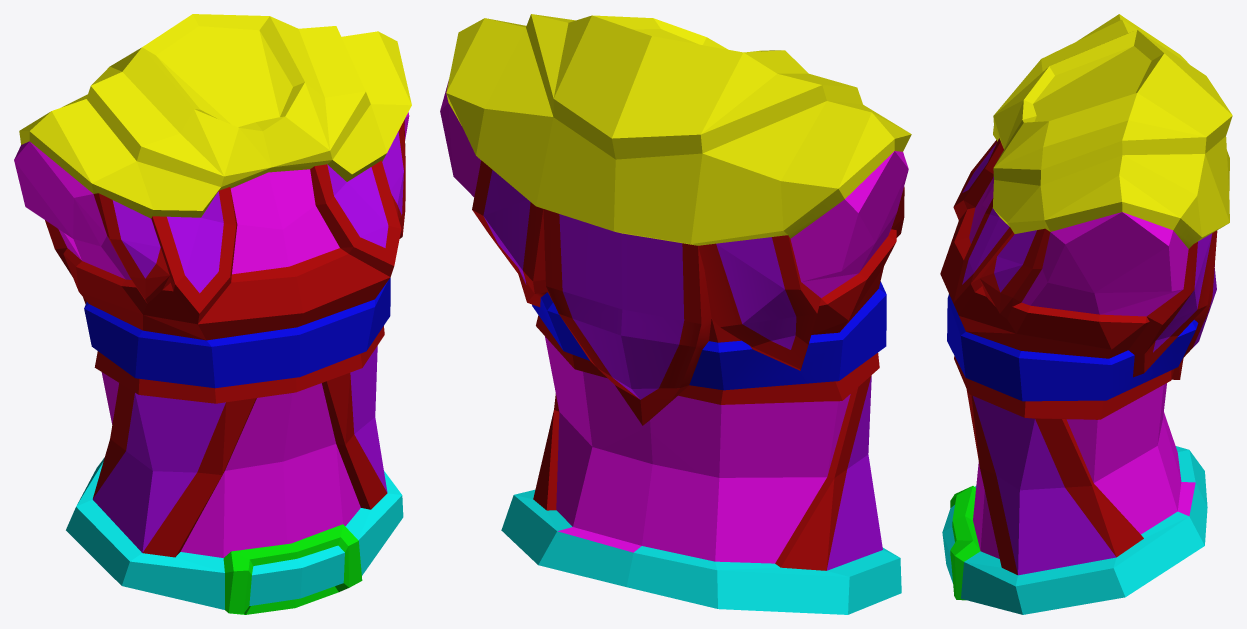
The model's file is Chr_Torso_Male_Static_15.fbx.
The picture shows the model from 3 angles, left to right: view 1: azimuth 30°, elevation 25°; view 2: azimuth 150°, elevation 25°; view 3: azimuth 270°, elevation 25°; orthographic projection. The views are drawn at different scales.
Visible parts, largest first — view 1: Chr_Torso_Male_15; view 2: Chr_Torso_Male_15; view 3: Chr_Torso_Male_15.
Part boxes in pixels (<box>): Chr_Torso_Male_15: <box>14,14,411,614</box>; Chr_Torso_Male_15: <box>440,14,911,614</box>; Chr_Torso_Male_15: <box>940,14,1232,614</box>.
Size of the model in its own units: 49.47 by 66.67 by 33.67.
